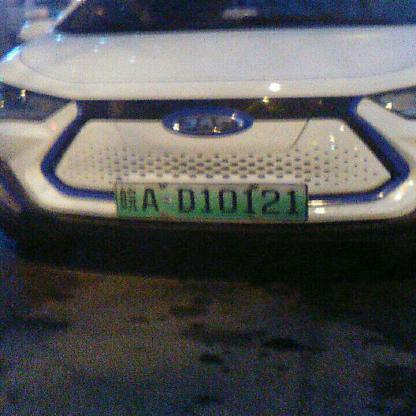lp: (116, 182, 308, 218)
